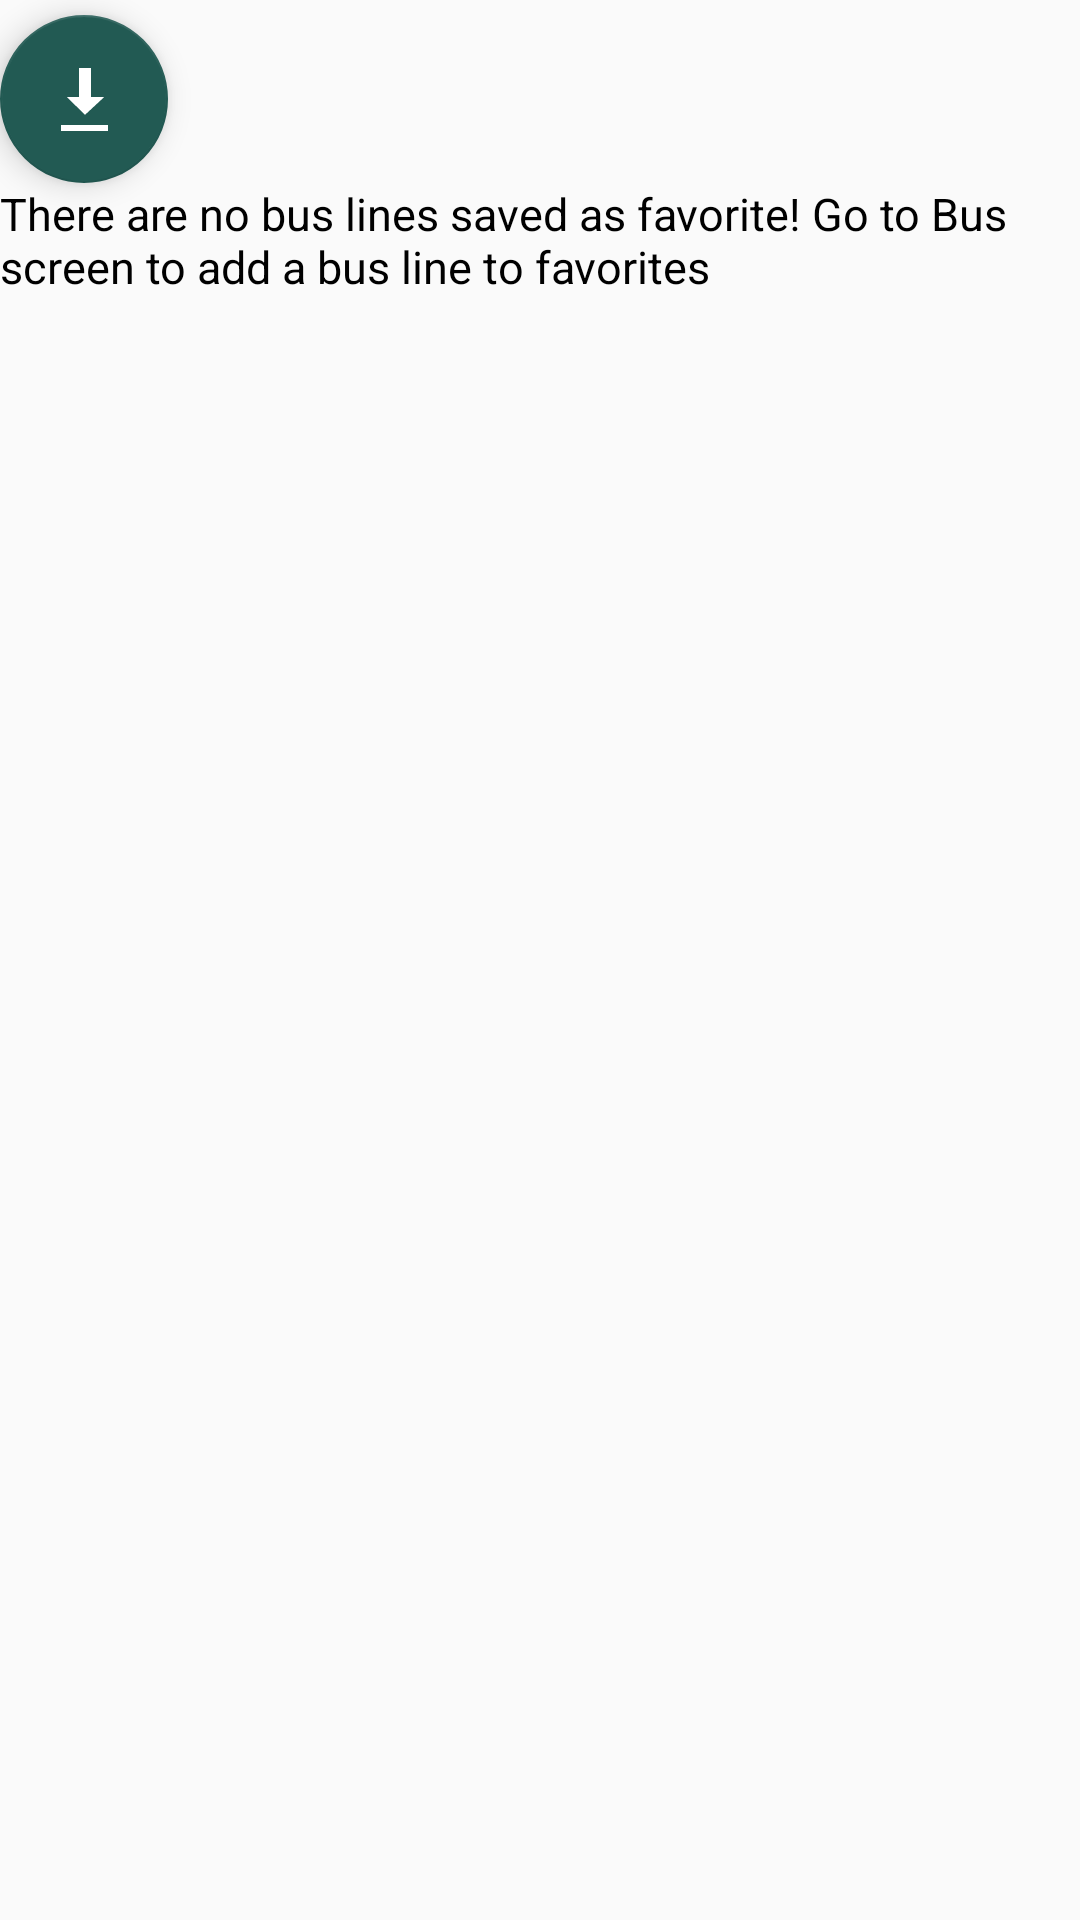

Named icons in this screenshot (1080 x 1920) and their centers, (x=x, y=y):
download: (x=84, y=99)
